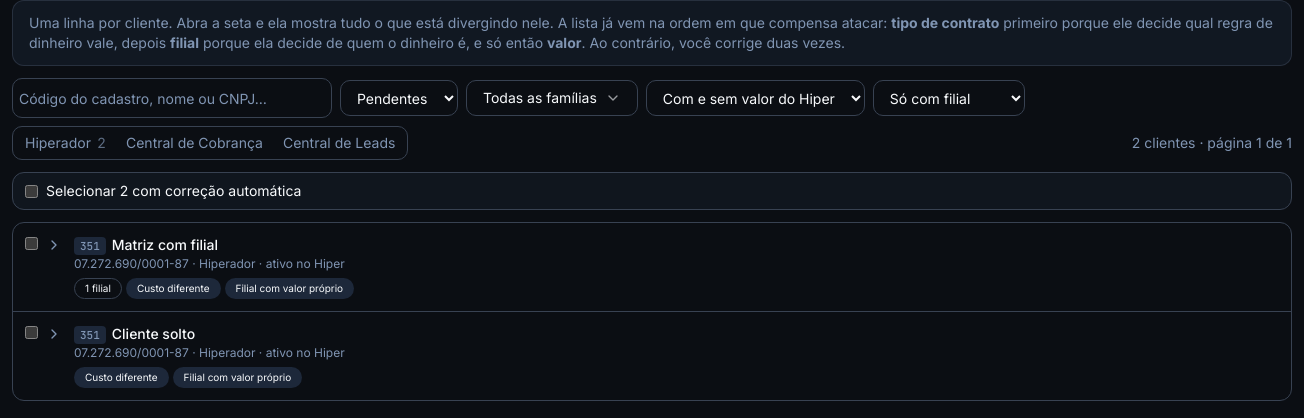
abas da integração Hiper › separa quem tem filial de quem não tem
Step 1. Select "Só com filial" in the 3rd dropdown → (949, 98), box left=873, top=80, right=1025, bottom=116
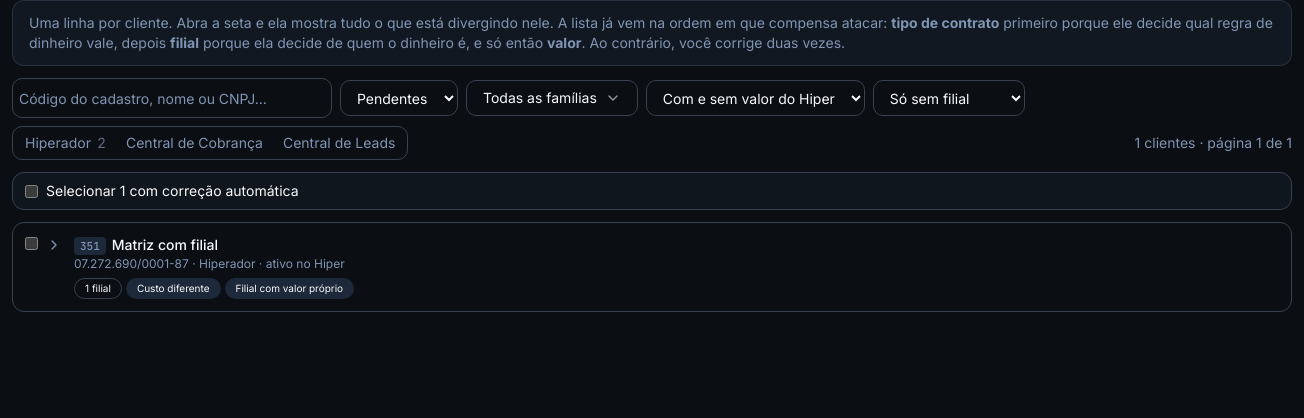
Expected: the text "Matriz com filial" is shown, left=112, top=236, right=218, bottom=253
Expected: the text "Cliente solto" is gone
Step 2. Select "Só sem filial" in the 3rd dropdown → (949, 98), box left=873, top=80, right=1025, bottom=116
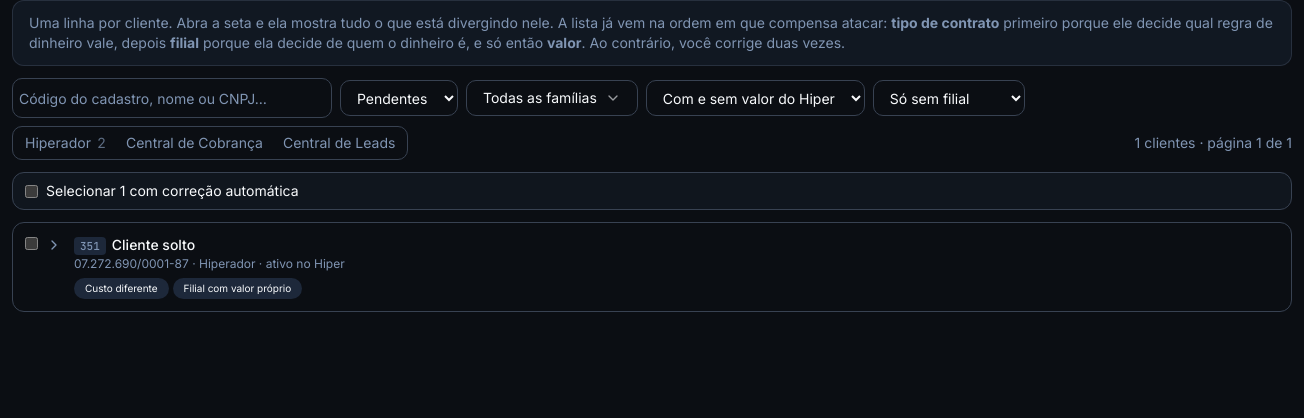
Expected: the text "Cliente solto" is shown, left=112, top=236, right=195, bottom=253
Expected: the text "Matriz com filial" is gone
